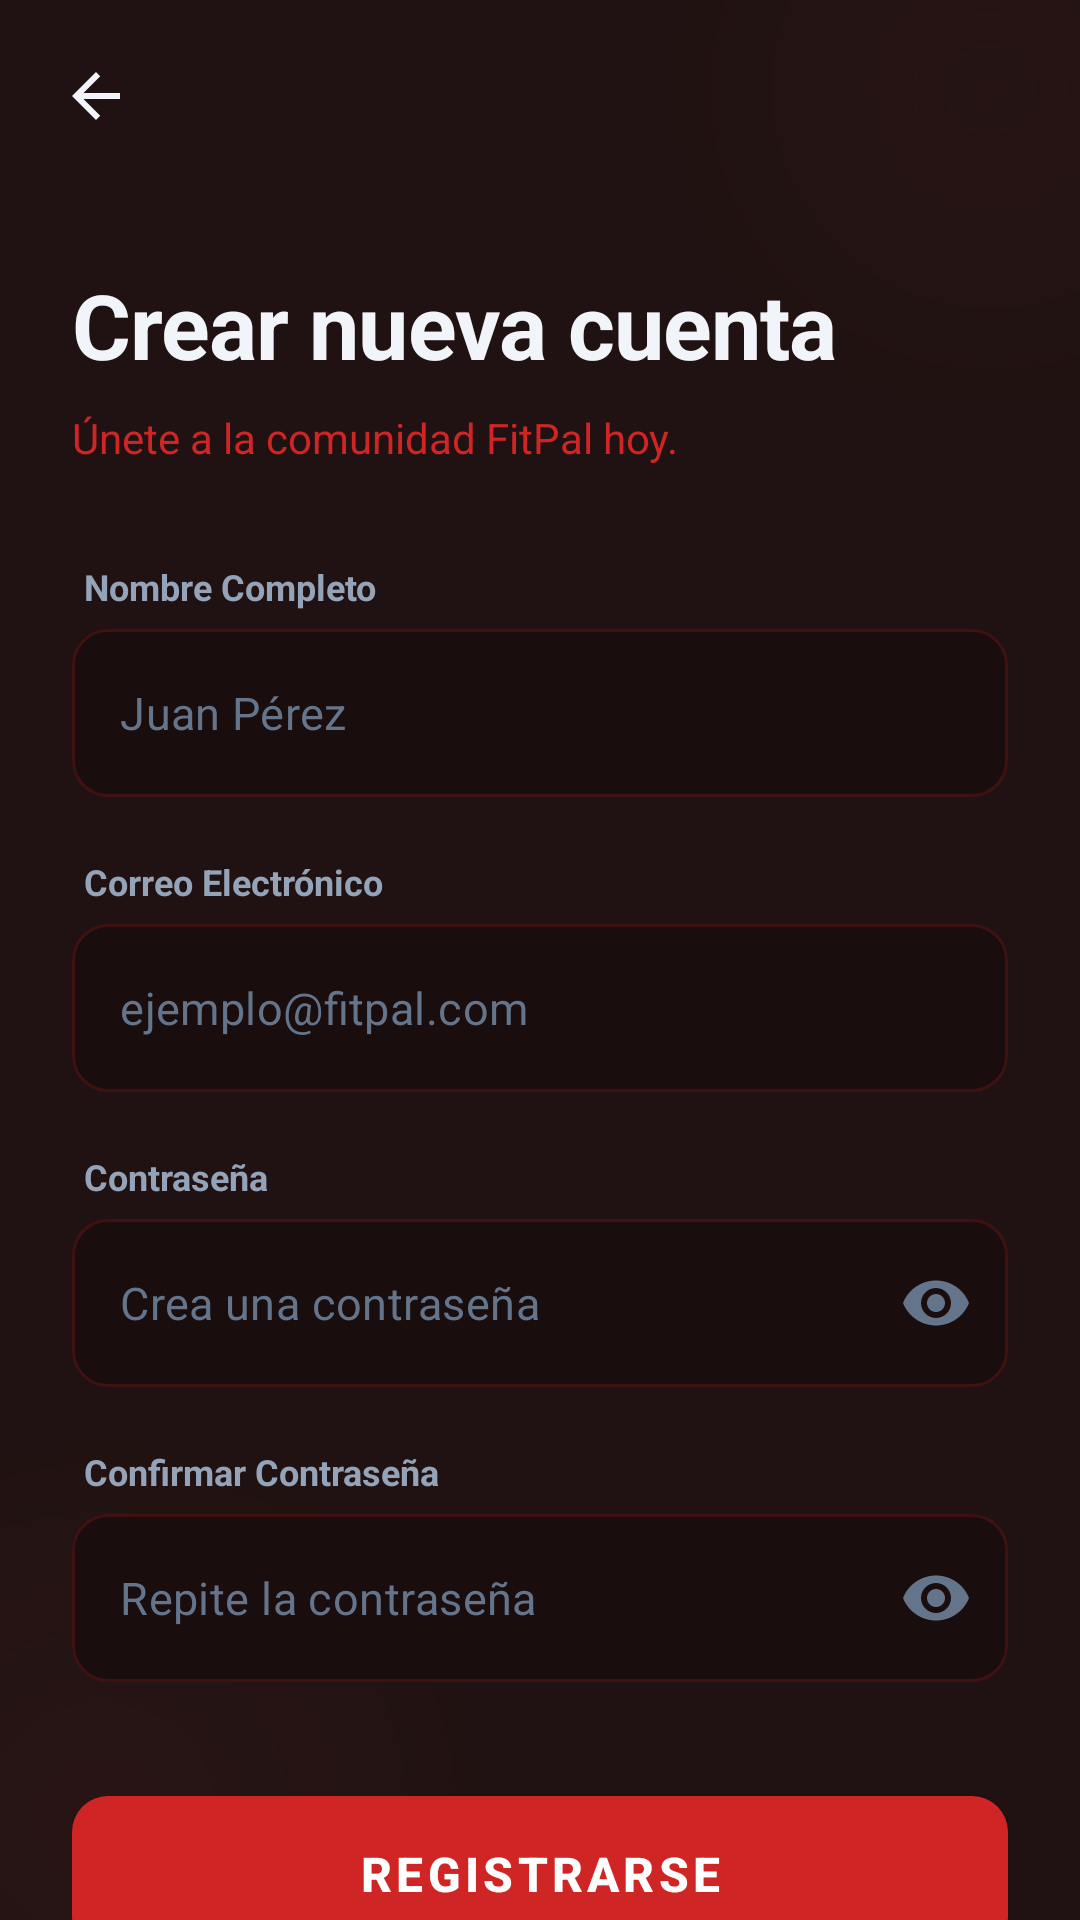

Locate icon controls on the screen. Image size 1080w x 1920h, boxes as (x1, y1, x2, y2).
Regresar: (72, 72, 120, 120)
